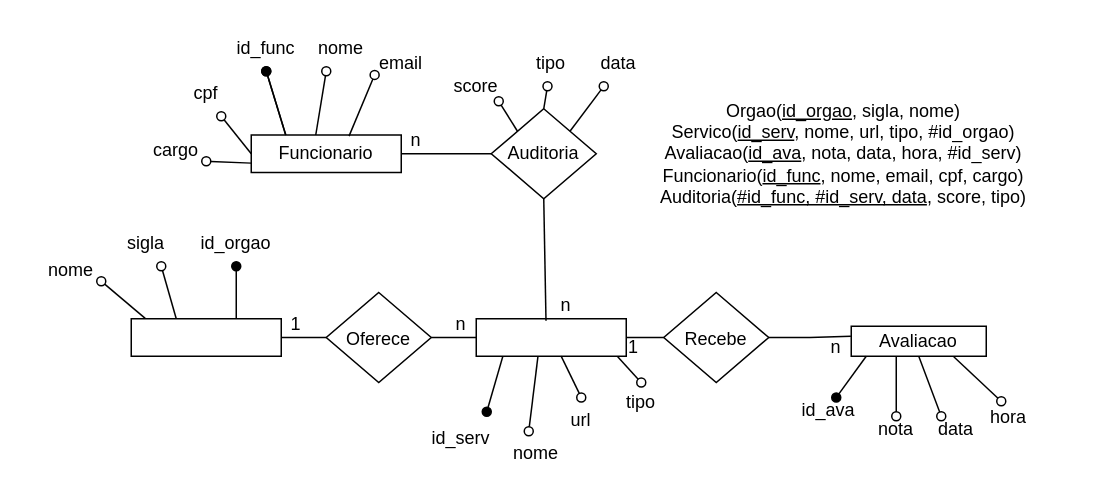
Some shapes in this 1116 by 501 pixel diagram are drawn without their labels. The shapes that lost their labels are listed below. From the top down, each one's centre as x and y in pixels, then its label:
At point (205, 336): "Orgao".
At point (550, 336): "Servico".
